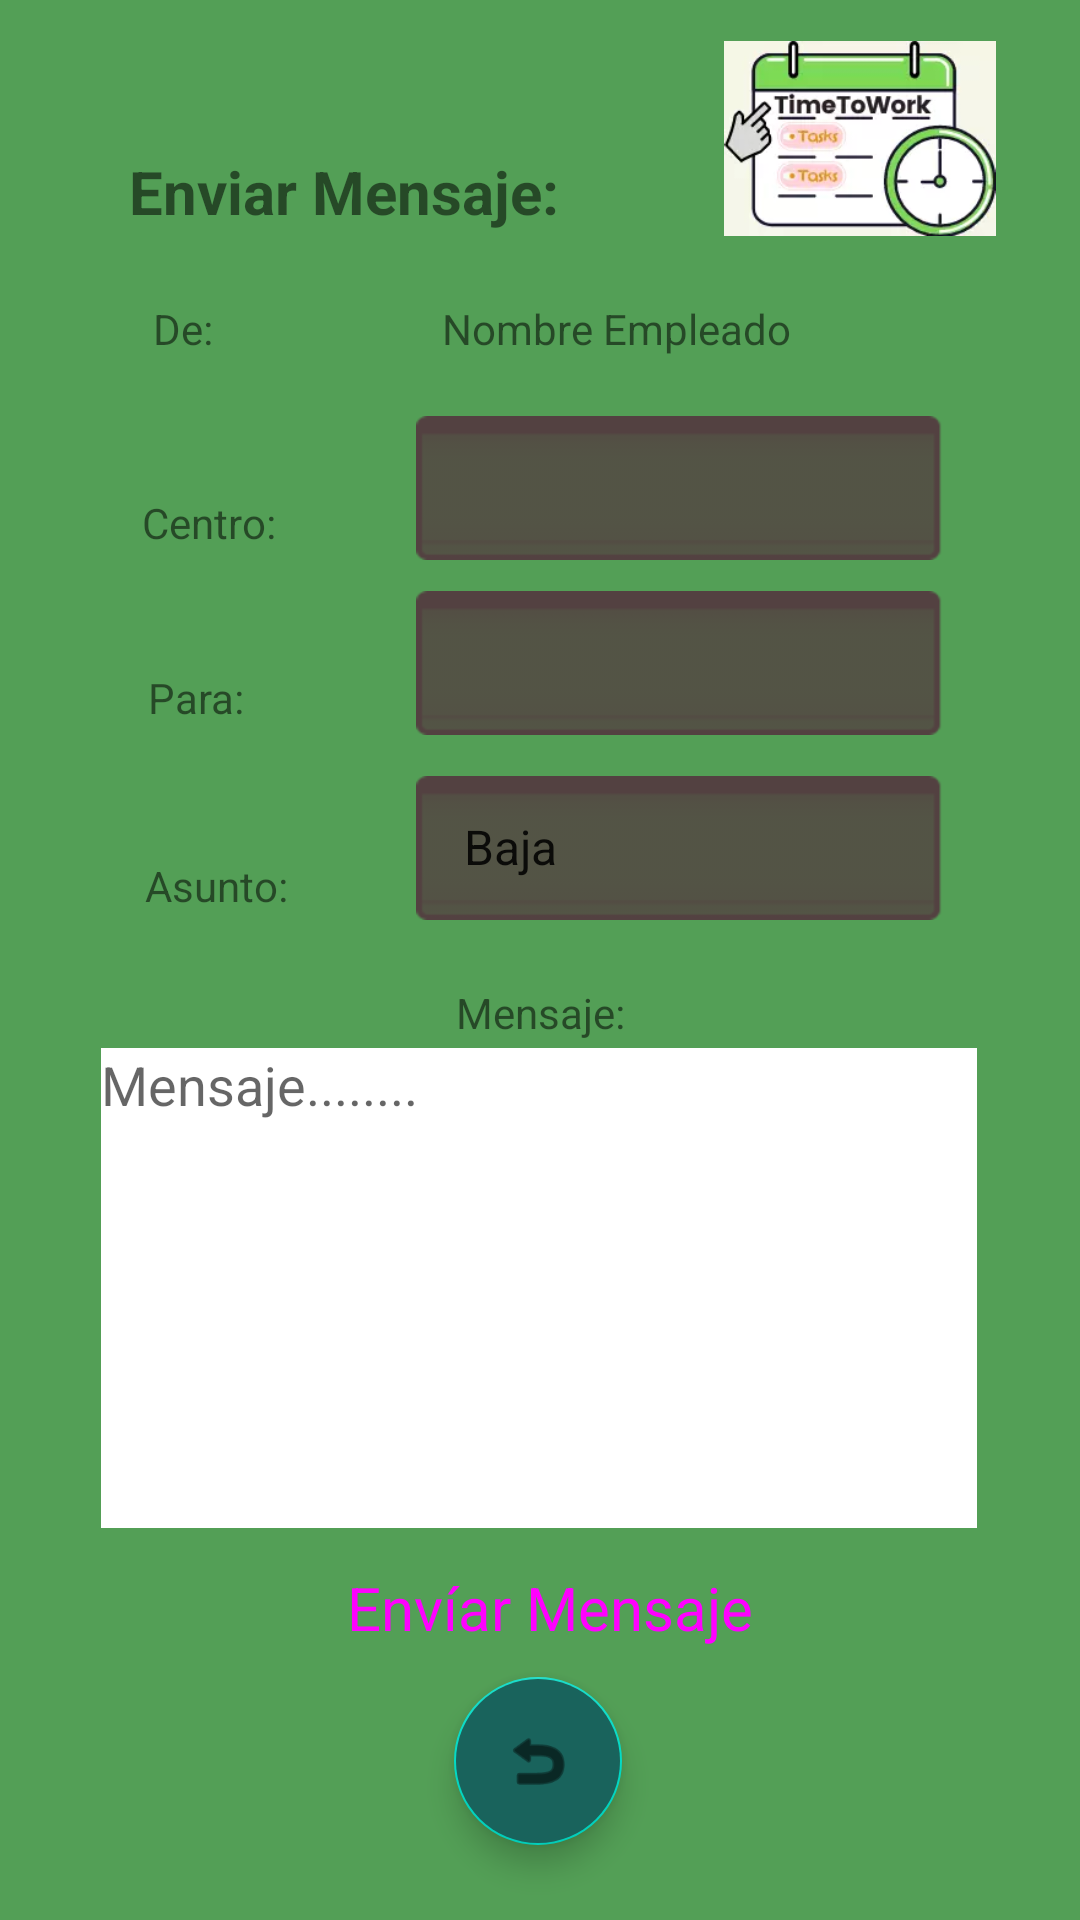

Icons on this 1080*1920 Android screen, each with its box as (x1, y1, x2, y2):
Volver: (454, 1677, 622, 1845)
